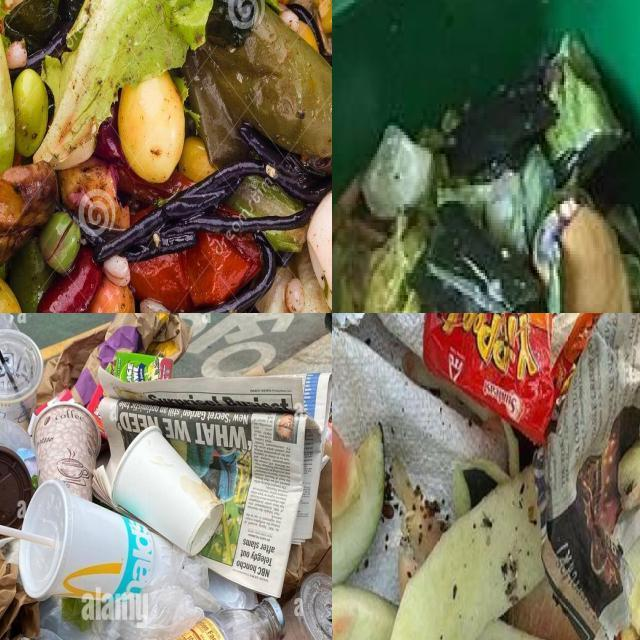Disposable: (20, 480, 185, 599), (112, 427, 223, 555), (34, 402, 101, 501), (0, 329, 43, 427), (281, 573, 332, 640), (0, 444, 34, 528)
Garbage: (0, 313, 332, 640), (332, 313, 640, 640), (332, 33, 640, 313)
Glass_bottle: (178, 598, 285, 640)
Plastic_Bag: (116, 549, 223, 640), (40, 596, 123, 640), (0, 313, 20, 333)
Plastic_Straw: (0, 524, 55, 547), (0, 349, 18, 390)
Tetrapack: (113, 350, 173, 383)
